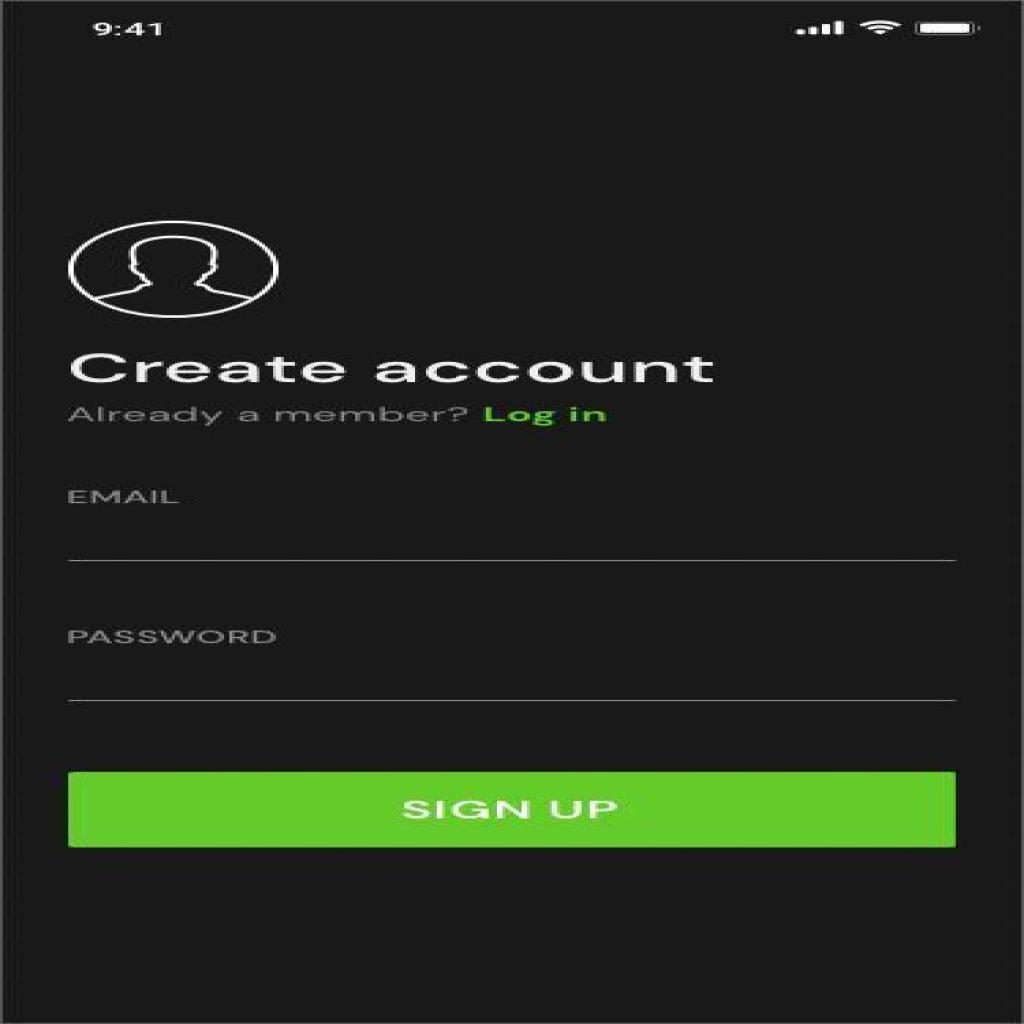button: (65, 772, 964, 851)
label: (63, 622, 300, 653), (52, 484, 202, 511)
